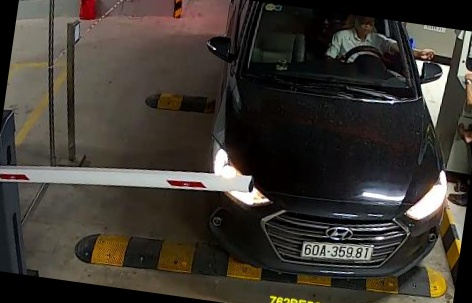plate: (295, 232, 375, 271)
